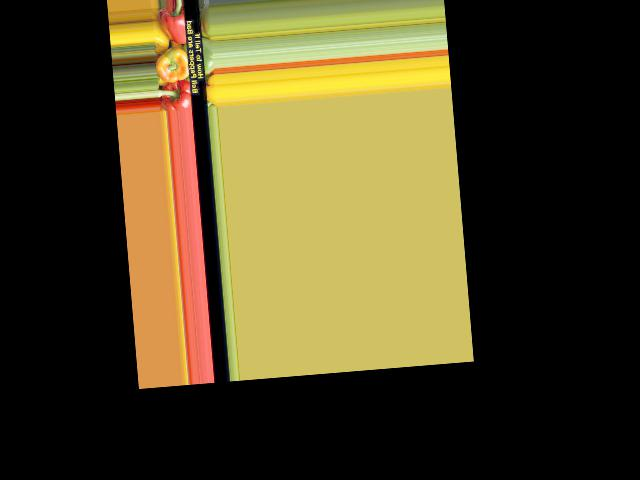bell_pepper: (156, 77, 193, 110)
